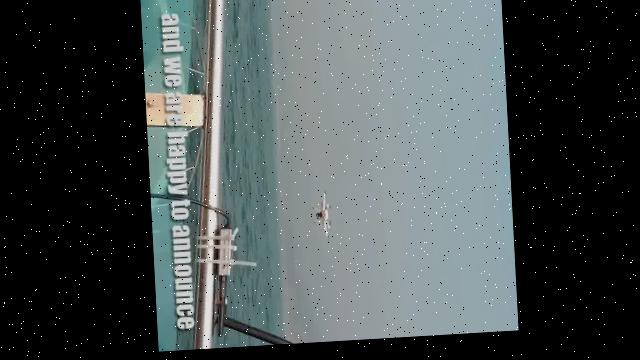drone: (140, 0, 167, 353), (295, 178, 346, 257)
